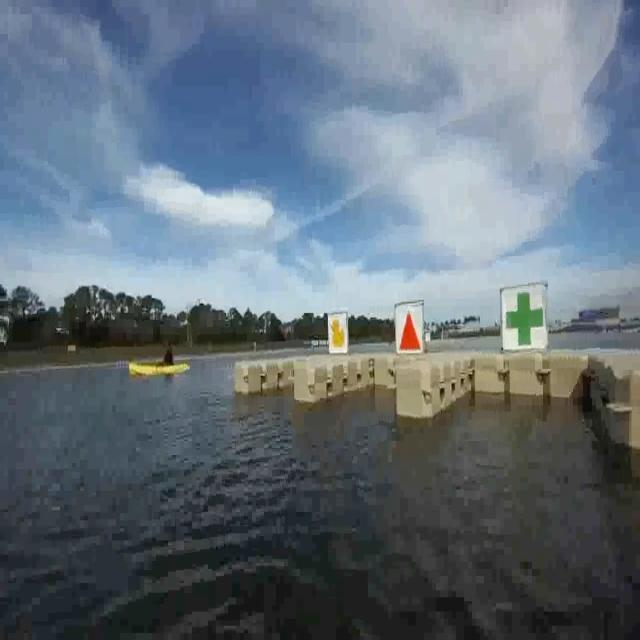blue-cross: (500, 281, 551, 358)
red-dot: (393, 308, 426, 354)
yellow-duck: (328, 311, 348, 355)
